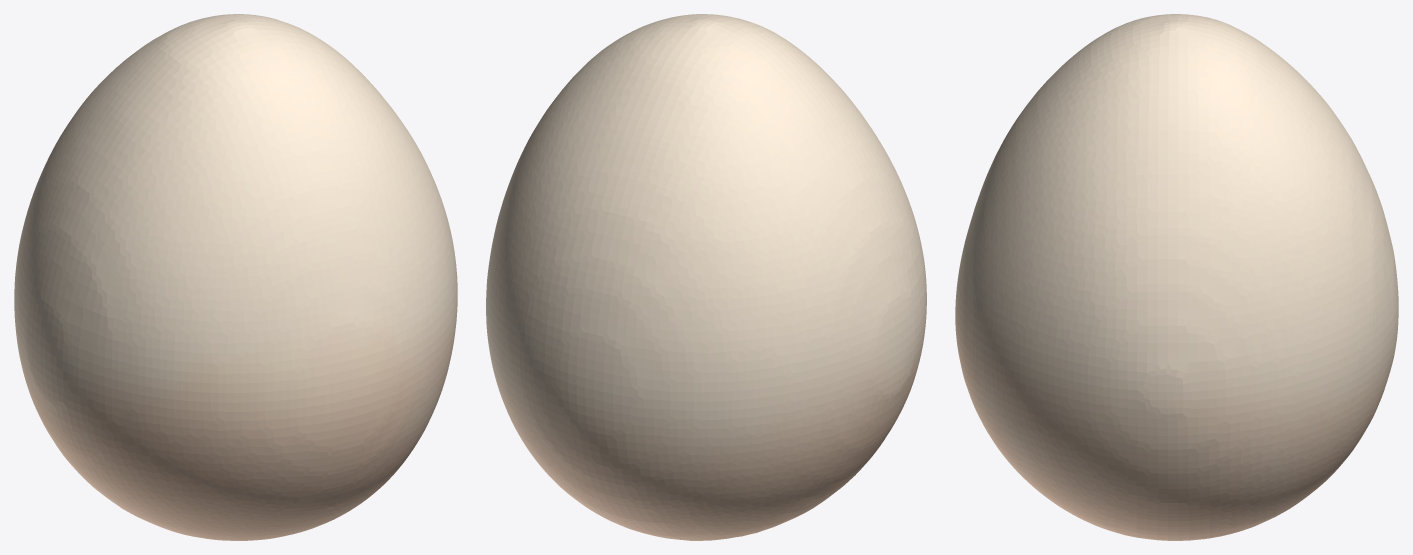
Rendered from egg  2.fbx.
3 views of the same model, side by side, from view 1: azimuth 30°, elevation 25°; view 2: azimuth 150°, elevation 25°; view 3: azimuth 270°, elevation 25° (orthographic).
Parts seen in each view (by area): view 1: egg.001; view 2: egg.001; view 3: egg.001.
Part boxes in pixels (x1=…): egg.001: x1=14, y1=14, x2=457, y2=540; egg.001: x1=486, y1=14, x2=926, y2=540; egg.001: x1=955, y1=14, x2=1398, y2=540.
Bounding box in the file's own units: 3.46 × 4.26 × 3.45.
